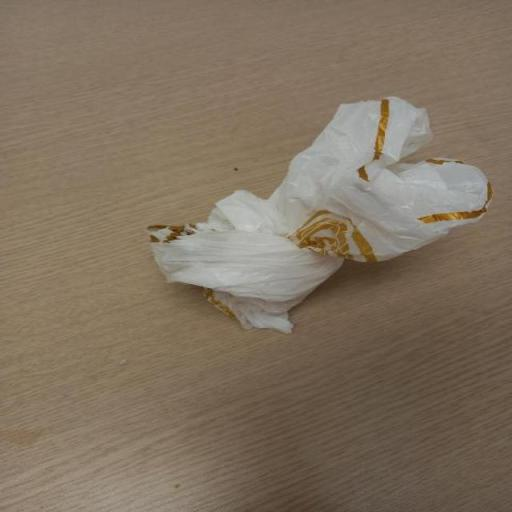plastic-bag: (144, 96, 490, 335)
